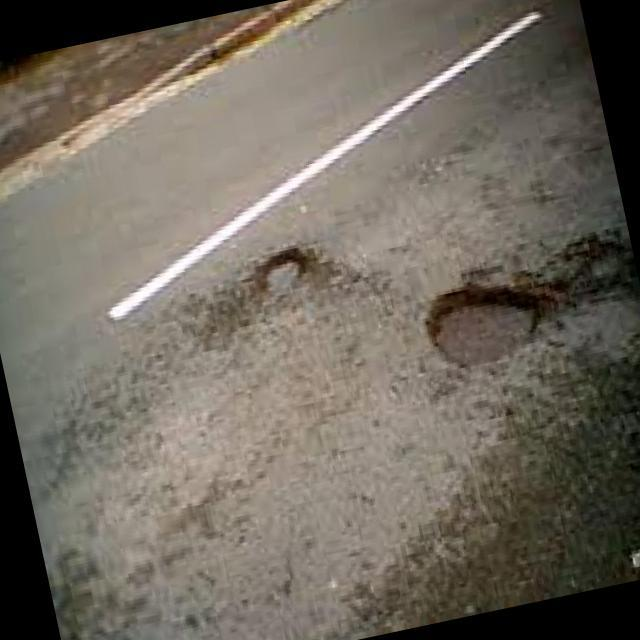Pothole: (428, 257, 640, 366), (255, 250, 305, 299)
